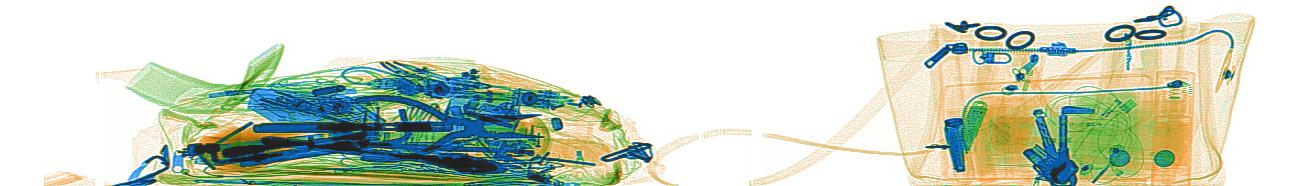plasticBottleWithaNozzle: (1149, 66, 1195, 181)
